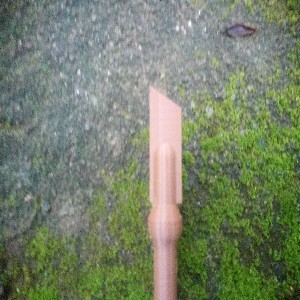cutter: (146, 84, 185, 300)
